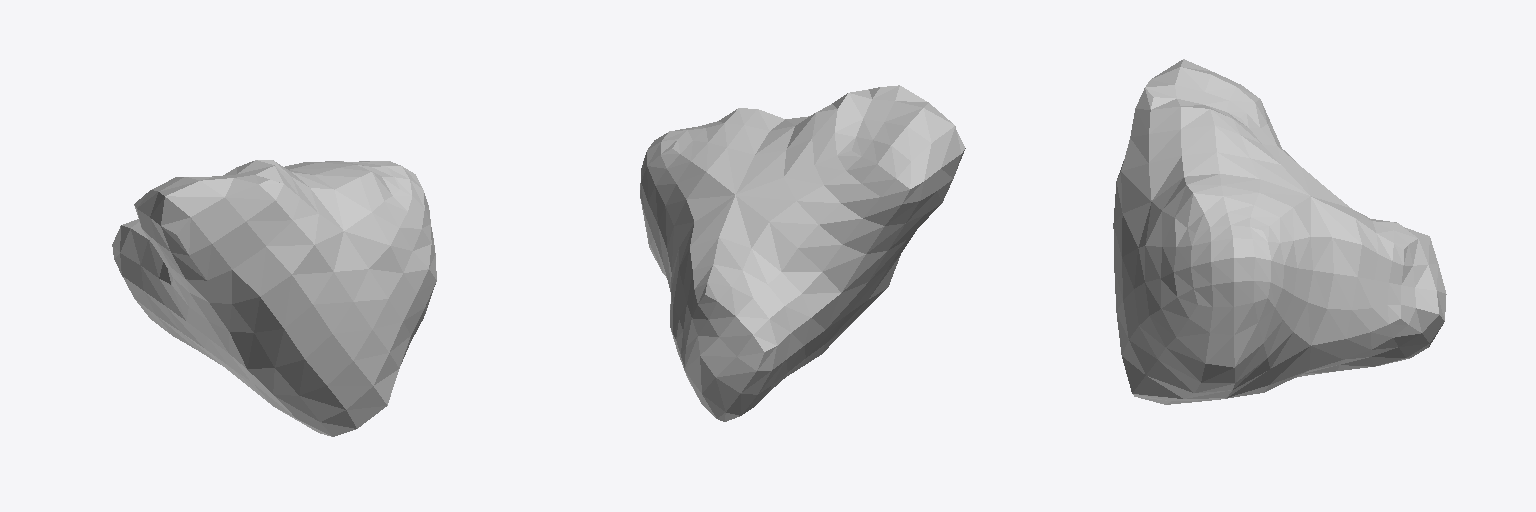
File: PM3D_rock039_011.OBJ
3 views of the same model, side by side, from view 1: azimuth 30°, elevation 25°; view 2: azimuth 150°, elevation 25°; view 3: azimuth 270°, elevation 25° (orthographic).
Parts seen in each view (by area): view 1: Group41393; view 2: Group41393; view 3: Group41393.
Part boxes in pixels (x1,y1,x2,y2): Group41393: (112, 160, 436, 436); Group41393: (640, 85, 965, 421); Group41393: (1113, 59, 1446, 404).
Size of the model in its own units: 1403 by 1277 by 1402.